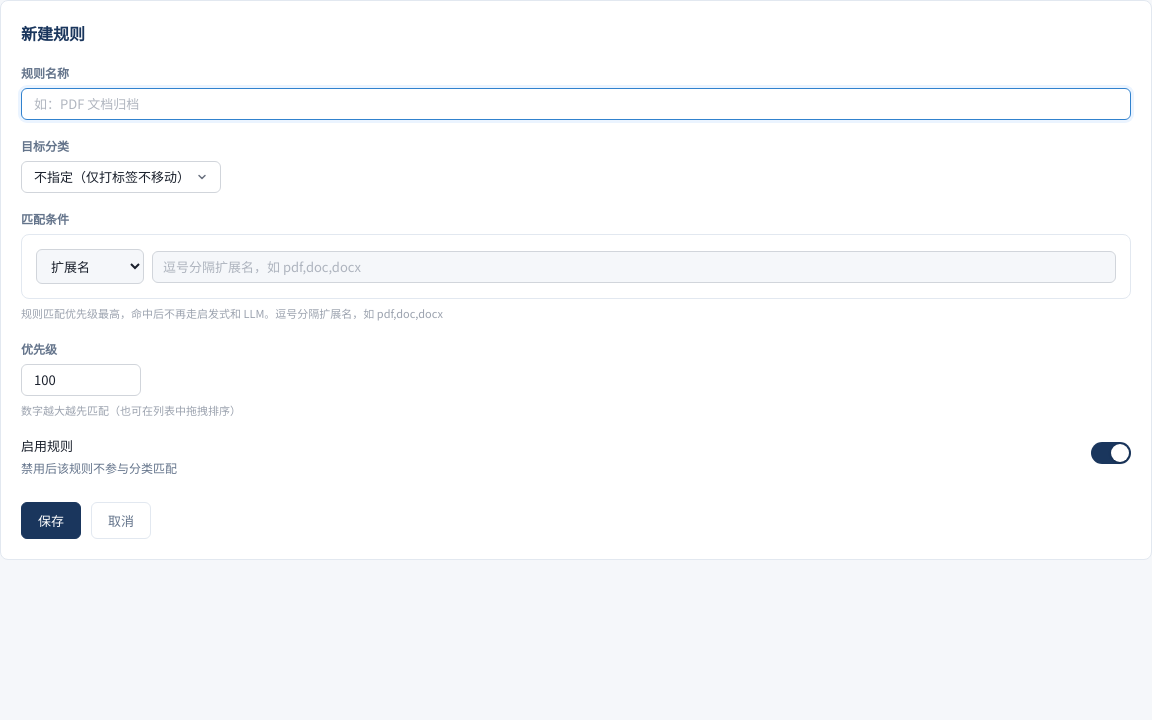
Test case: RuleForm › validates empty pattern
In the field labelled "规则名称": (576, 104) [21,88,1131,120], type "规则"
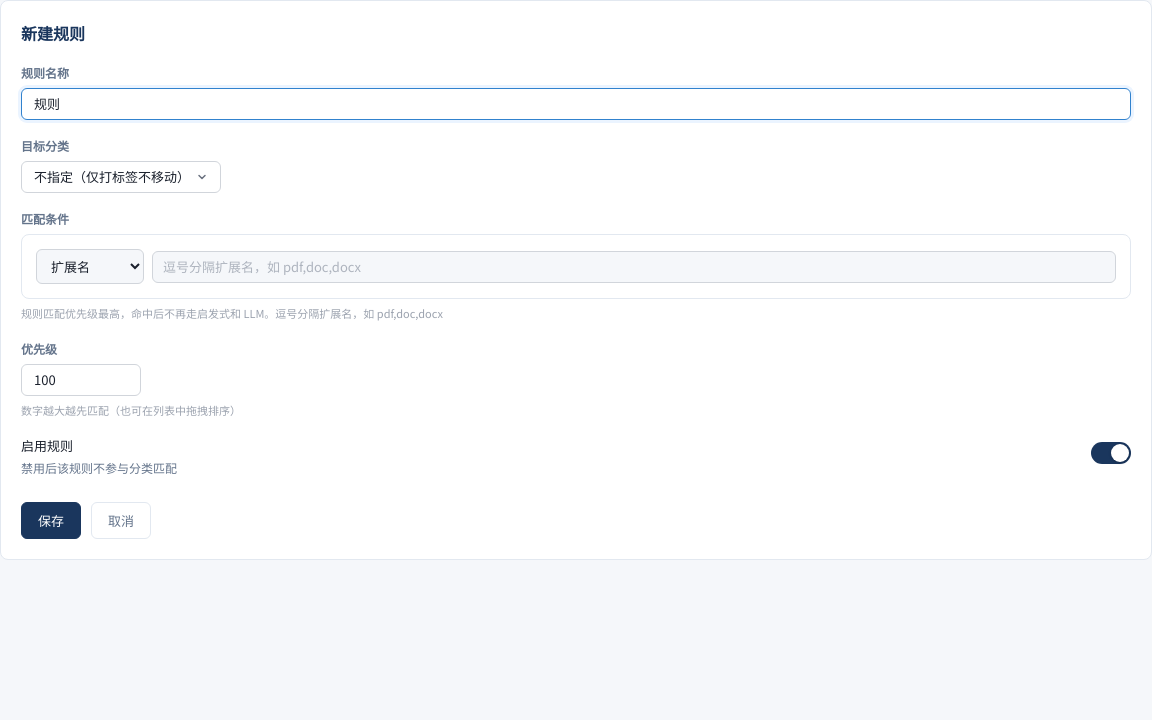
Click the button "保存": (51, 520) [21,502,81,538]
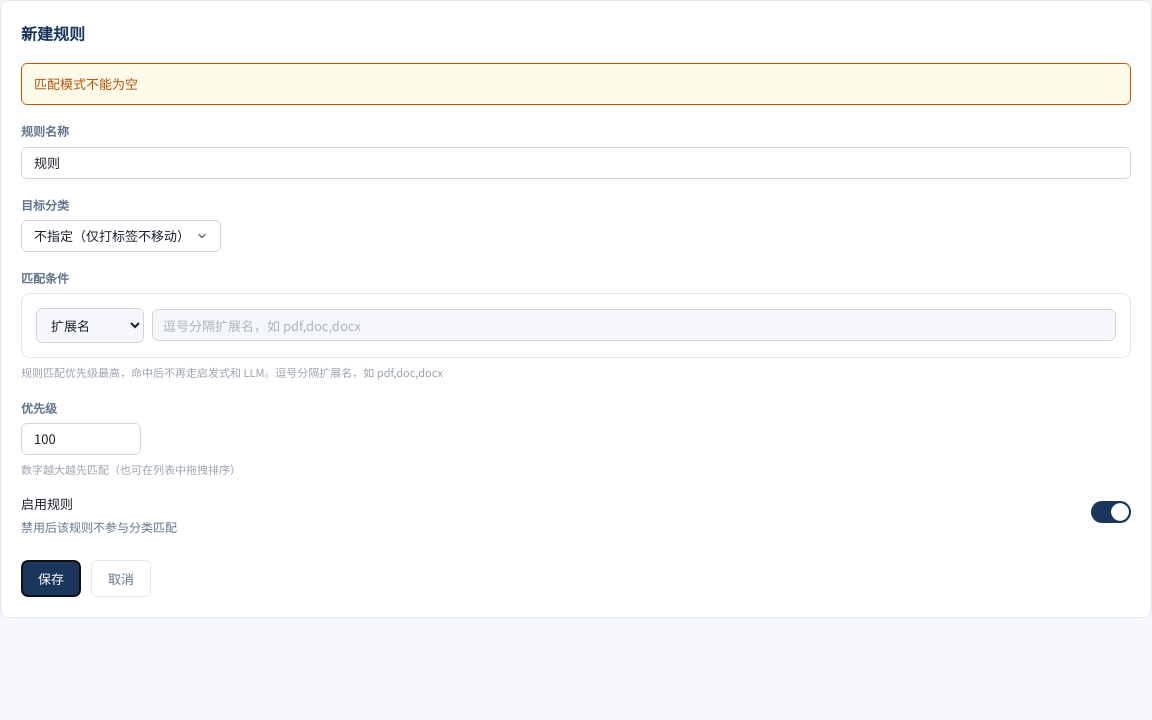
Now the message reads "匹配模式不能为空", box [34,74,138,93]
